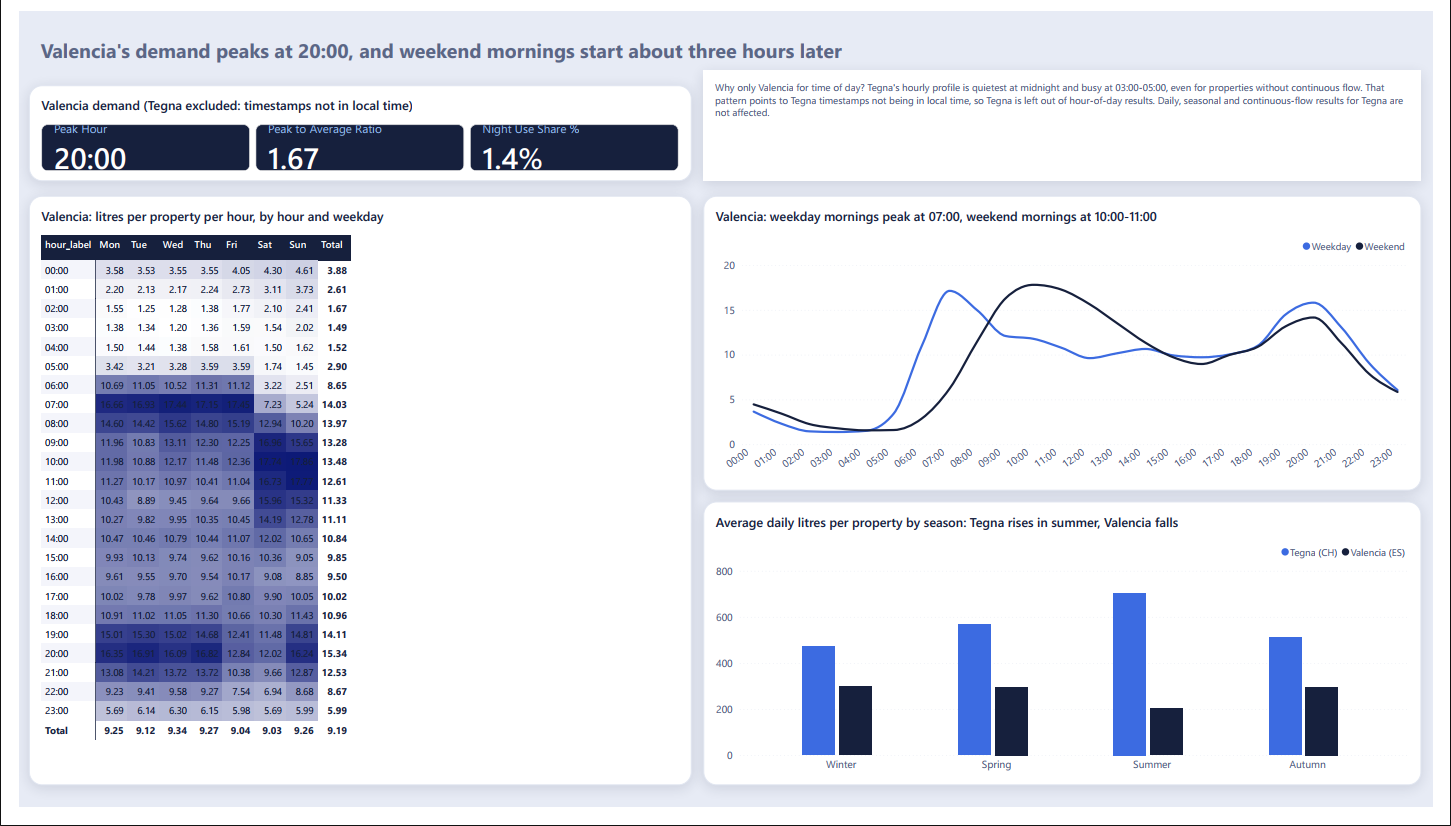

What the dashboard file says about the page in this screenshot:
{"tool":"powerbi","page":{"name":"Patterns","canvas":[1920,1080],"ordinal":1},"visuals":[{"type":"pivotTable","title":"Valencia: litres per property per hour, by hour and weekday","fields":{"Columns":["DimDate.weekday_name"],"Rows":["DimHour.hour_label"],"Values":["_Measures.Avg Litres per Property Hour"]},"box":[14,250,900,800],"z":0},{"type":"lineChart","title":"Valencia: weekday mornings peak at 07:00, weekend mornings at 10:00-11:00","fields":{"Category":["DimHour.hour_label"],"Series":["DimDate.day_type"],"Y":["_Measures.Avg Litres per Property Hour"]},"box":[930,250,975,400],"z":1},{"type":"clusteredColumnChart","title":"Average daily litres per property by season: Tegna rises in summer, Valencia falls","fields":{"Category":["DimDate.season"],"Series":["DimProperty.site_name"],"Y":["_Measures.Avg Daily Litres per Property"]},"box":[930,665,975,385],"z":2},{"type":"cardVisual","title":"Valencia demand (Tegna excluded: timestamps not in local time)","fields":{"Data":["_Measures.Peak Hour","_Measures.Peak to Average Ratio","_Measures.Night Use Share %"]},"box":[14,100,900,130],"z":3},{"type":"textbox","box":[930,80,975,150],"z":4},{"type":"textbox","box":[100,100,300,300],"z":5},{"type":"textbox","box":[14,20,1400,70],"z":6}]}

Visuals, with their boxes in screenshot pixels (x1, y1, x2, y2), scaled from the page's 1920x1080 canvas onto the 1451x826 screenshot:
"Valencia: litres per property per hour, by hour and weekday" pivotTable: {"x1": 11, "y1": 191, "x2": 691, "y2": 803}
"Valencia: weekday mornings peak at 07:00, weekend mornings at 10:00-11:00" lineChart: {"x1": 703, "y1": 191, "x2": 1440, "y2": 497}
"Average daily litres per property by season: Tegna rises in summer, Valencia falls" clusteredColumnChart: {"x1": 703, "y1": 509, "x2": 1440, "y2": 803}
"Valencia demand (Tegna excluded: timestamps not in local time)" cardVisual: {"x1": 11, "y1": 76, "x2": 691, "y2": 176}
textbox: {"x1": 703, "y1": 61, "x2": 1440, "y2": 176}
textbox: {"x1": 76, "y1": 76, "x2": 302, "y2": 306}
textbox: {"x1": 11, "y1": 15, "x2": 1069, "y2": 69}
